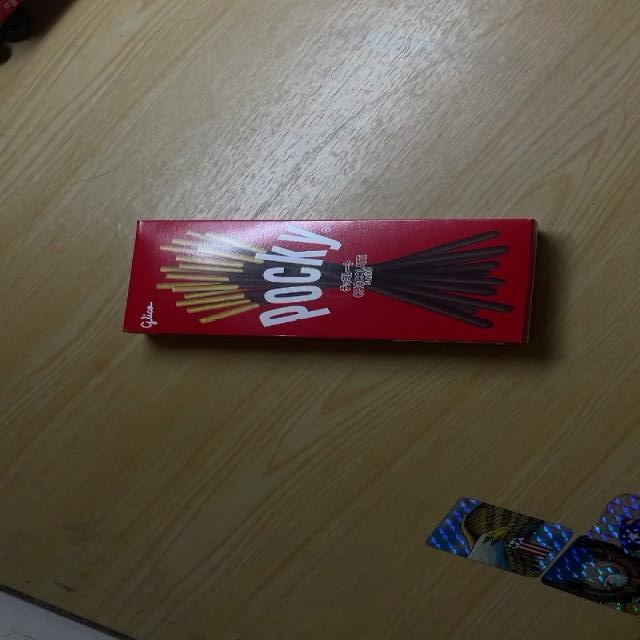Pocky: (124, 216, 536, 347)
